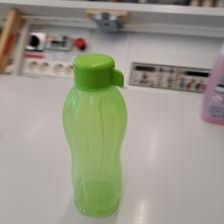bottle: (62, 54, 127, 220)
